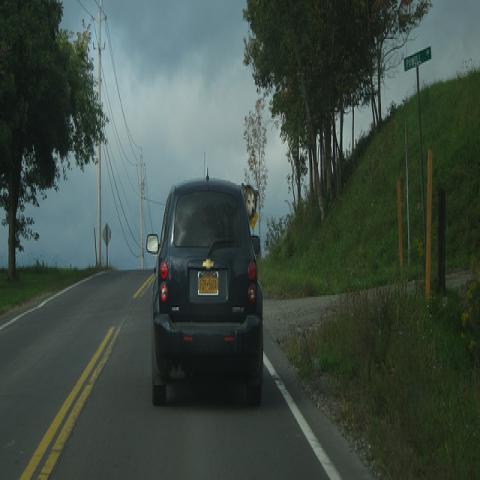car: (145, 185, 264, 406)
